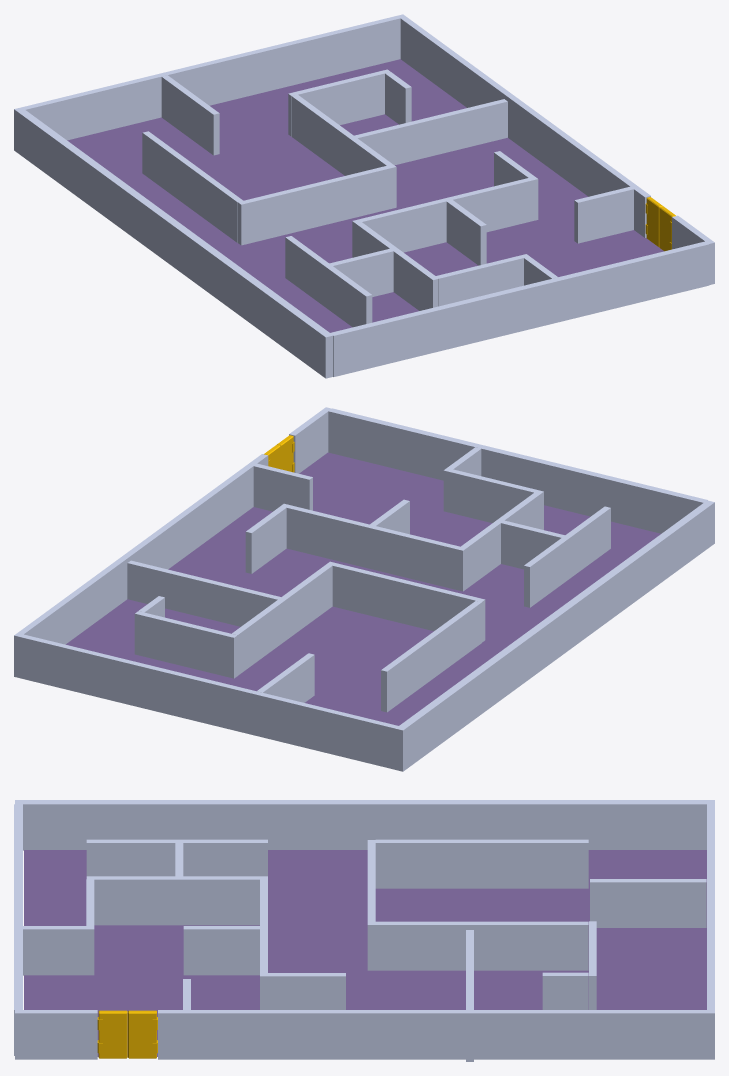
The model's file is maps49.fbx.
The picture shows the model from 3 angles, top to bottom: view 1: azimuth 30°, elevation 25°; view 2: azimuth 150°, elevation 25°; view 3: azimuth 270°, elevation 25°; orthographic projection. The views are drawn at different scales.
Visible parts, largest first — view 1: wall_01_08_geo1, wall_01_05_geo, wall_01_07_geo, wall_01_09_geo7, wall_01_06_geo1, wall_01_09_geo19, wall_01_09_geo20, wall_01_09_geo12, wall_01_09_geo24, wall_01_09_geo21, wall_01_09_geo31, wall_01_09_geo22 (+11 smaller); view 2: wall_01_08_geo1, wall_01_09_geo7, wall_01_07_geo, wall_01_05_geo, wall_01_06_geo1, wall_01_09_geo20, wall_01_09_geo19, wall_01_09_geo12, wall_01_09_geo24, wall_01_09_geo22, wall_01_09_geo21, wall_01_09_geo31 (+9 smaller); view 3: wall_01_08_geo1, wall_01_07_geo, wall_01_06_geo1, wall_01_09_geo21, wall_01_09_geo24, wall_01_09_geo28, wall_01_09_geo31, wall_01_09_geo25, wall_01_06_geo2, wall_01_09_geo27, wall_01_09_geo30, wall_01_09_geo26 (+10 smaller).
Part boxes in pixels (x1,y1,x2,y2): wall_01_08_geo1: (67, 59, 663, 332); wall_01_05_geo: (330, 241, 709, 376); wall_01_07_geo: (14, 107, 333, 378); wall_01_09_geo7: (22, 16, 400, 140); wall_01_06_geo1: (397, 14, 650, 237); wall_01_09_geo19: (237, 166, 390, 245); wall_01_09_geo20: (358, 176, 538, 252); wall_01_09_geo12: (354, 99, 507, 165); wall_01_09_geo24: (142, 131, 242, 242); wall_01_09_geo21: (292, 95, 396, 208); wall_01_09_geo31: (285, 236, 372, 327); wall_01_09_geo22: (288, 69, 390, 136); wall_01_08_geo1: (66, 452, 660, 725); wall_01_09_geo7: (20, 634, 398, 769); wall_01_07_geo: (395, 500, 714, 771); wall_01_05_geo: (328, 408, 707, 533); wall_01_06_geo1: (14, 454, 268, 677); wall_01_09_geo20: (281, 503, 459, 589); wall_01_09_geo19: (332, 563, 485, 642); wall_01_09_geo12: (127, 560, 280, 626); wall_01_09_geo24: (381, 601, 481, 712); wall_01_09_geo22: (134, 611, 237, 678); wall_01_09_geo21: (232, 561, 335, 675); wall_01_09_geo31: (524, 506, 610, 607); wall_01_08_geo1: (24, 850, 706, 1056); wall_01_07_geo: (15, 800, 714, 850); wall_01_06_geo1: (158, 1010, 714, 1059); wall_01_09_geo21: (367, 921, 588, 970); wall_01_09_geo24: (375, 839, 588, 888); wall_01_09_geo28: (86, 876, 267, 925); wall_01_09_geo31: (86, 839, 267, 876); wall_01_09_geo25: (590, 879, 706, 927); wall_01_06_geo2: (15, 1010, 97, 1059); wall_01_09_geo27: (183, 926, 259, 975); wall_01_09_geo30: (23, 926, 86, 975); wall_01_09_geo26: (268, 973, 345, 1009).
Size of the model in its own units: 87.55 by 9.89 by 122.
Materials: 2 (2 with a texture image).
